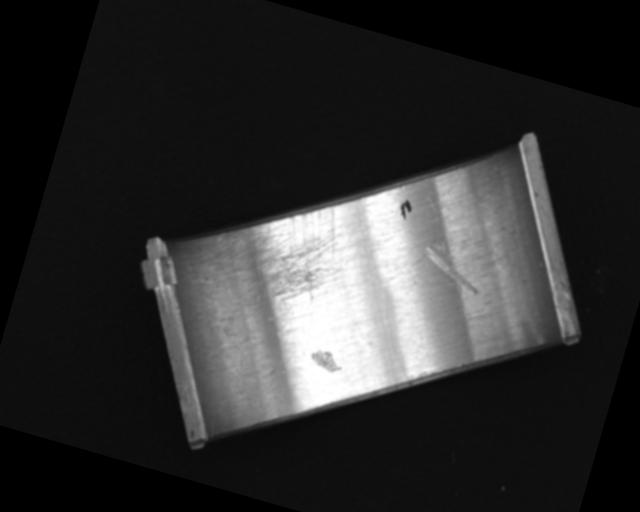blot: (396, 197, 414, 221)
bruise: (306, 345, 345, 375)
nick: (393, 176, 447, 272), (416, 242, 487, 295)
scratch: (209, 178, 360, 322)
